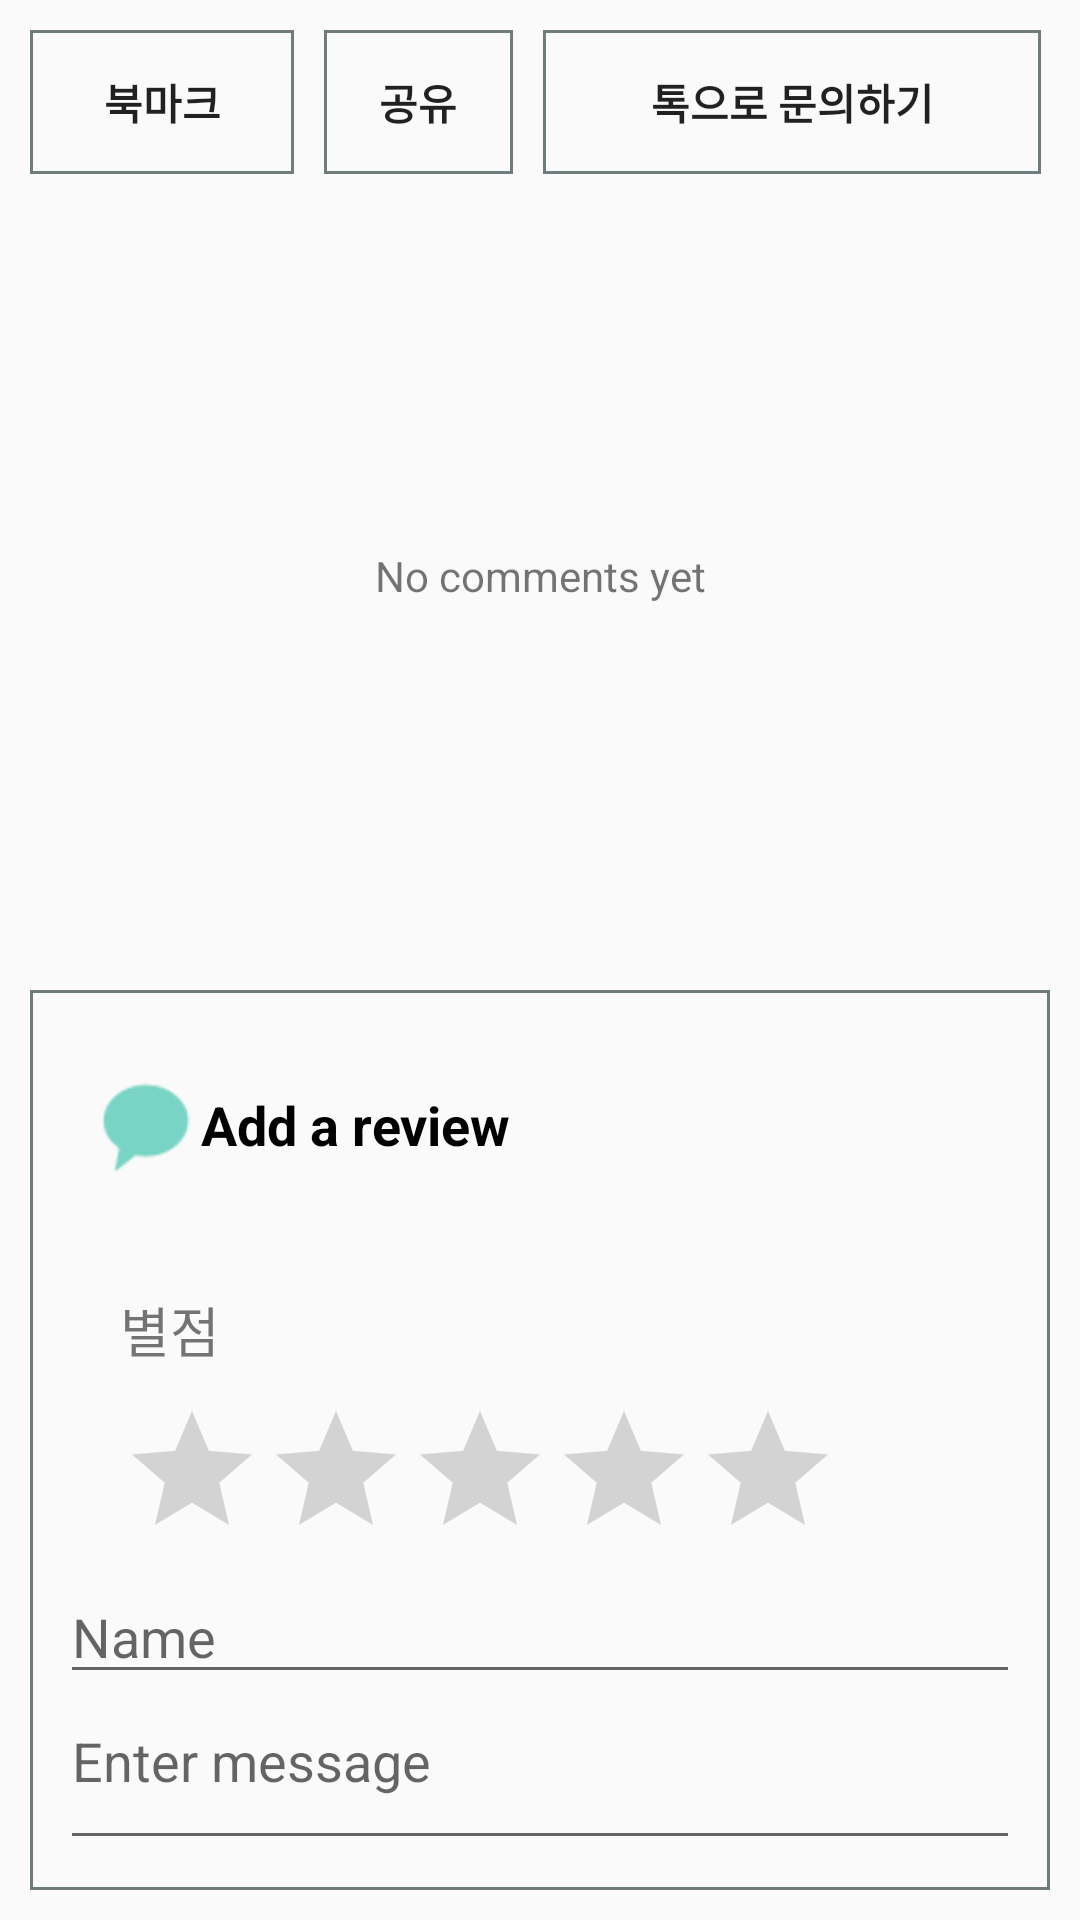

Icon bounding boxes for this 1080*1920 phone screenshot, format {"left": x1, "top": y1, "right": x2, "bottom": y2}:
sym action chat: {"left": 103, "top": 1083, "right": 189, "bottom": 1172}
